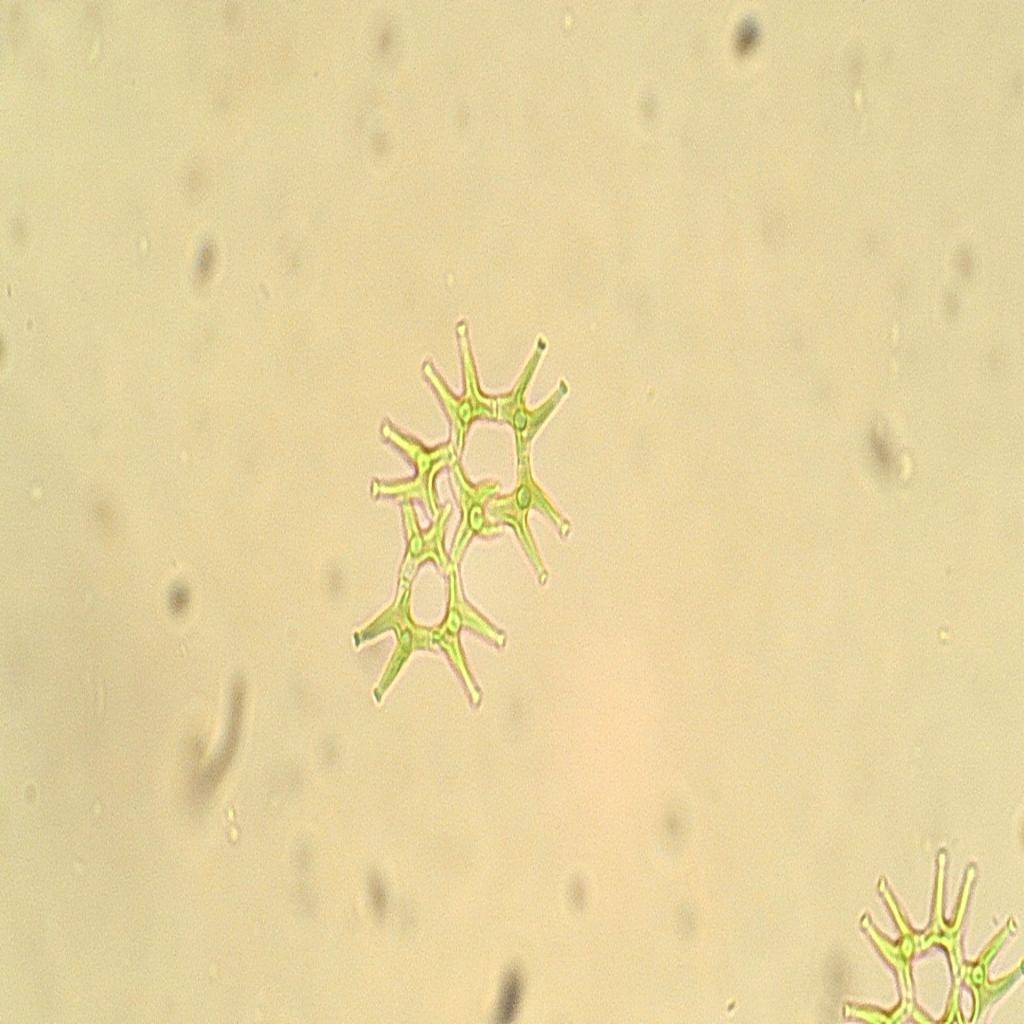Pediastrum_CFI: (337, 260, 587, 762)
